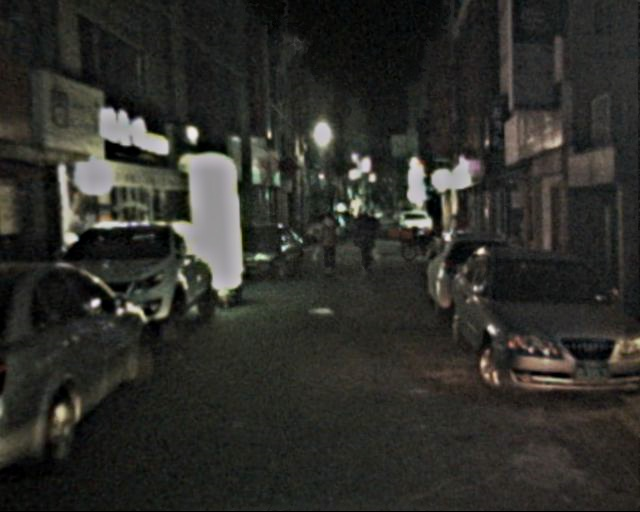person: (350, 212, 378, 281), (314, 210, 341, 277)
